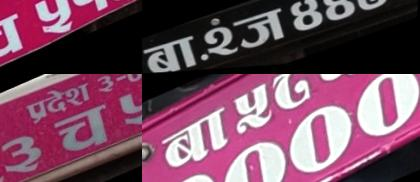0: (157, 107, 237, 177), (121, 74, 142, 89)
1: (64, 0, 115, 28), (152, 168, 233, 182)
2: (197, 19, 245, 65)
3: (0, 126, 51, 182), (93, 74, 118, 99)
4: (280, 0, 330, 38), (313, 0, 362, 29), (97, 0, 142, 11)
5: (28, 0, 81, 47), (111, 80, 142, 140), (376, 0, 419, 9)
6: (225, 85, 278, 139)
7: (344, 0, 394, 19)
8: (307, 74, 373, 92)
ba: (142, 28, 207, 74)
cha: (278, 99, 366, 182), (344, 74, 420, 148), (46, 98, 121, 168), (211, 134, 299, 182), (0, 7, 35, 71)
ja: (226, 3, 296, 57)
pa: (264, 74, 321, 117)
